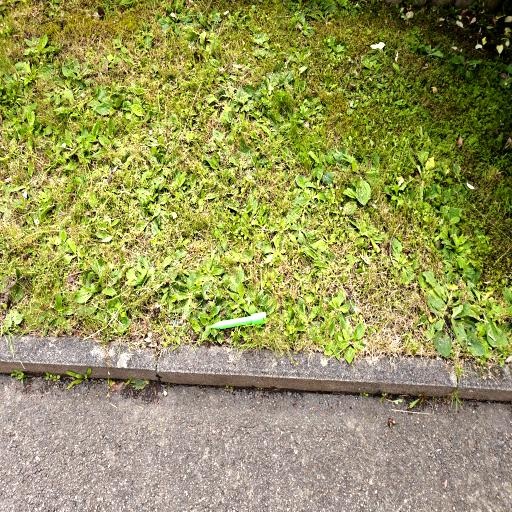Probe-Detection: (211, 312, 266, 328)
